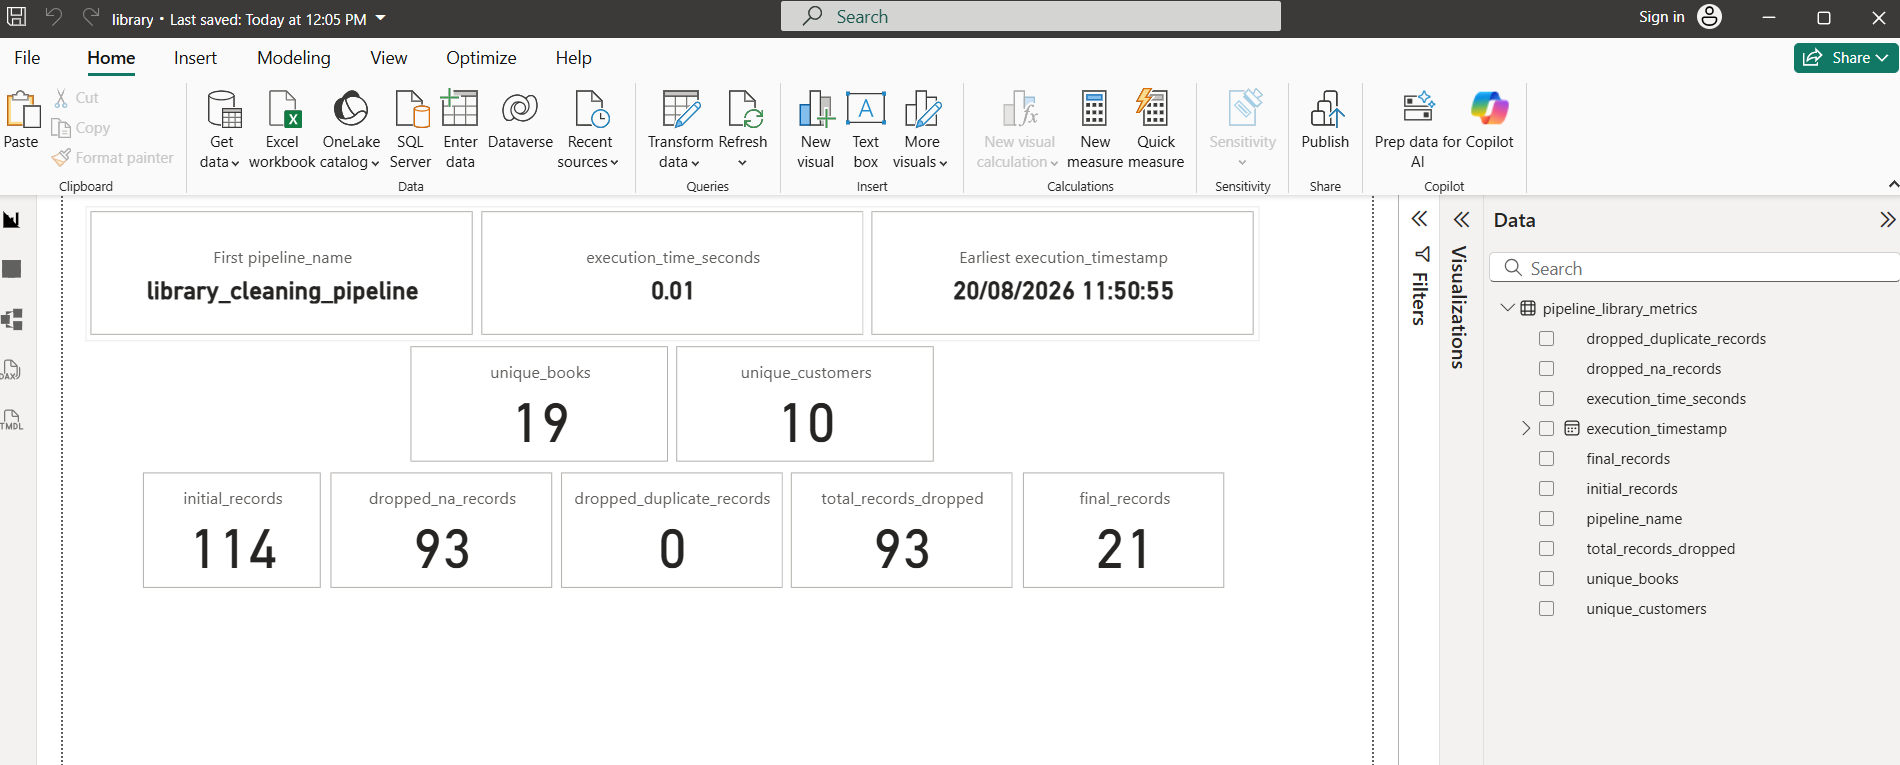

The page's visual inventory and layout, read from the dashboard file:
{"tool":"powerbi","page":{"name":"Page 1","canvas":[1280,720],"ordinal":0},"visuals":[{"type":"cardVisual","fields":{"Data":["Sum(pipeline_library_metrics.unique_books)","Sum(pipeline_library_metrics.unique_customers)"]},"box":[334.8,142.8,523.6,123.7],"z":0},{"type":"cardVisual","fields":{"Data":["Min(pipeline_library_metrics.pipeline_name)","Sum(pipeline_library_metrics.execution_time_seconds)","Min(pipeline_library_metrics.execution_timestamp)"]},"box":[22.2,11.1,1148.6,131.7],"z":1000},{"type":"cardVisual","fields":{"Data":["Sum(pipeline_library_metrics.initial_records)"]},"box":[73,266.5,184,123.7],"z":2000},{"type":"cardVisual","fields":{"Data":["Sum(pipeline_library_metrics.final_records)"]},"box":[934.5,266.5,207.8,123.7],"z":3000},{"type":"cardVisual","fields":{"Data":["Sum(pipeline_library_metrics.dropped_na_records)","Sum(pipeline_library_metrics.dropped_duplicate_records)","Sum(pipeline_library_metrics.total_records_dropped)"]},"box":[257,266.5,677.4,123.7],"z":4000}]}

Visuals, with their boxes on the page's 1280x720 design canvas (x1, y1, x2, y2). These are canvas units, not pixel positions in the 1900x765 screenshot, which may show the page scaled, cropped or inside an application window:
cardVisual - Sum(pipeline_library_metrics.unique_books) x Sum(pipeline_library_metrics.unique_customers): <bbox>335, 143, 858, 266</bbox>
cardVisual - Min(pipeline_library_metrics.pipeline_name) x Sum(pipeline_library_metrics.execution_time_seconds): <bbox>22, 11, 1171, 143</bbox>
cardVisual - Sum(pipeline_library_metrics.initial_records): <bbox>73, 266, 257, 390</bbox>
cardVisual - Sum(pipeline_library_metrics.final_records): <bbox>934, 266, 1142, 390</bbox>
cardVisual - Sum(pipeline_library_metrics.dropped_na_records) x Sum(pipeline_library_metrics.dropped_duplicate_records): <bbox>257, 266, 934, 390</bbox>
